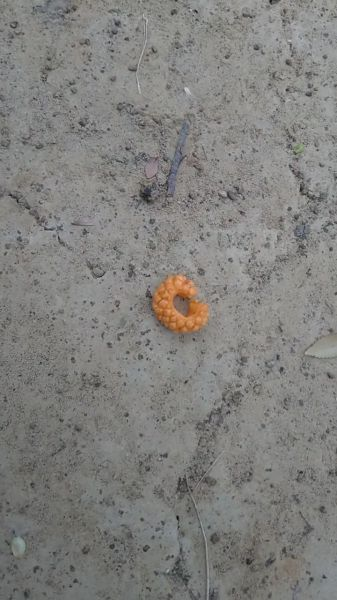eggs: (148, 269, 210, 335)
